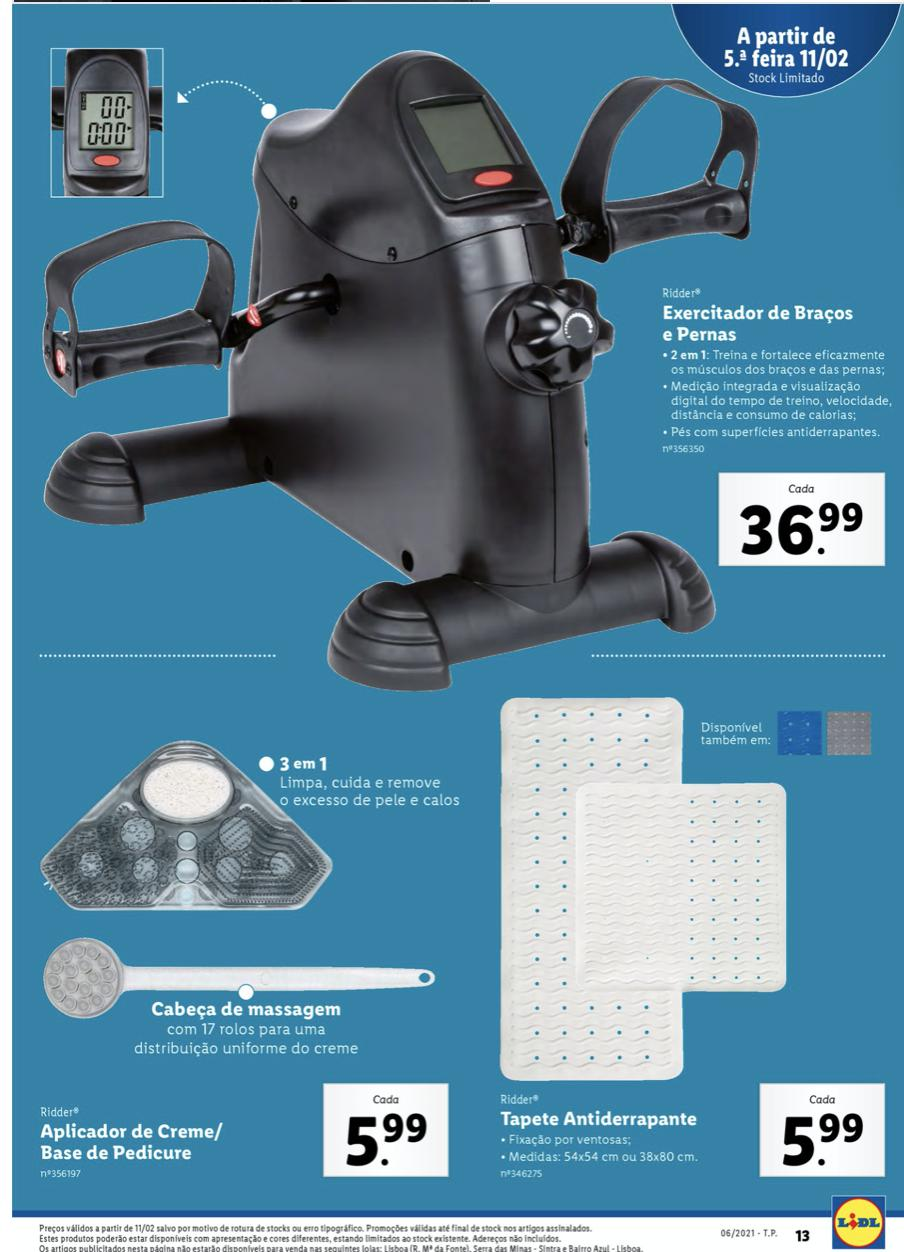name: (31, 1117, 236, 1167), (661, 302, 858, 344), (489, 1103, 712, 1133)
price: (720, 475, 877, 559), (758, 1087, 883, 1172), (323, 1086, 445, 1172)
product: (22, 37, 891, 681), (16, 706, 459, 1206), (473, 695, 894, 1194)
